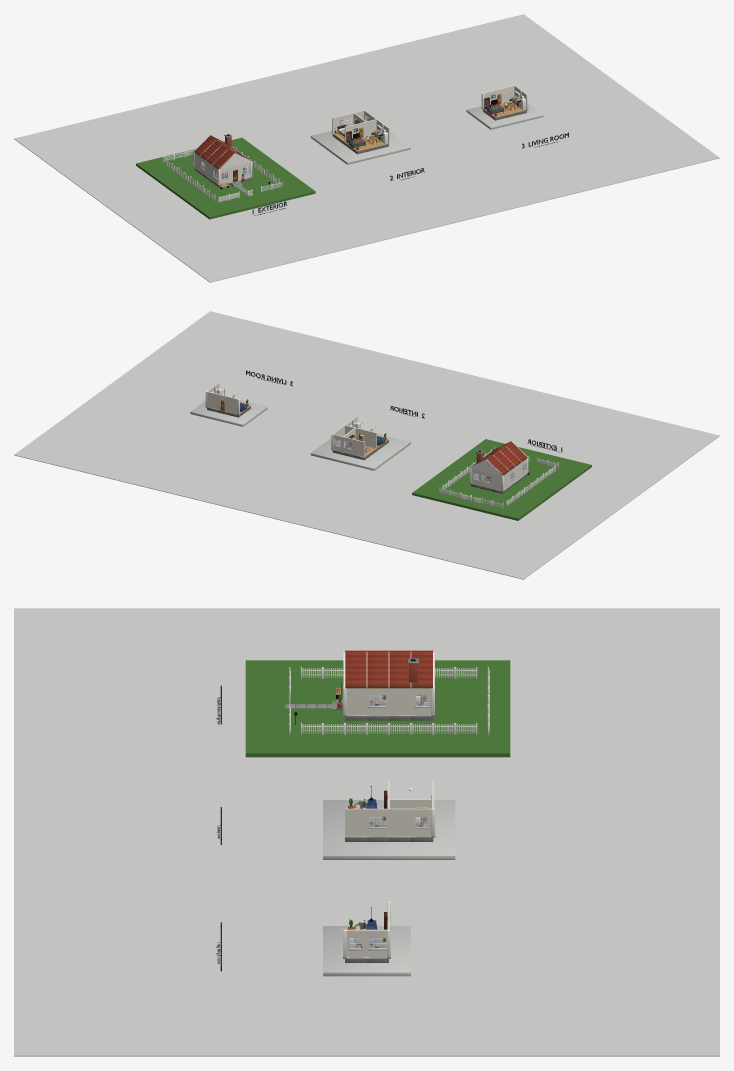
Rendered from Example_Place.glb.
The picture shows the model from 3 angles, top to bottom: view 1: azimuth 30°, elevation 25°; view 2: azimuth 150°, elevation 25°; view 3: azimuth 270°, elevation 25°; orthographic projection. The views are drawn at different scales.
Parts seen in each view (by area): view 1: Place_Floor, Ground_Garden, Slab_Interior, Slab_LivingRoom; view 2: Place_Floor, Ground_Garden, Slab_Interior, Slab_LivingRoom; view 3: Place_Floor, Ground_Garden, Slab_Interior, Slab_LivingRoom, Roof_Slope_Tile_2m.002, Roof_Slope_Tile_2m.004, Roof_Slope_Tile_2m.006, Roof_Slope_Tile_2m.008.
Part boxes in pixels (x1,y1,x2,y2): Place_Floor: (14, 14, 719, 282); Ground_Garden: (136, 137, 315, 219); Slab_Interior: (310, 130, 410, 164); Slab_LivingRoom: (466, 104, 543, 129); Place_Floor: (14, 311, 719, 579); Ground_Garden: (412, 439, 591, 520); Slab_Interior: (310, 433, 410, 470); Slab_LivingRoom: (190, 400, 267, 426); Place_Floor: (14, 608, 719, 1056); Ground_Garden: (245, 660, 510, 757); Slab_Interior: (323, 800, 455, 859); Slab_LivingRoom: (323, 926, 410, 976); Roof_Slope_Tile_2m.002: (345, 652, 366, 688); Roof_Slope_Tile_2m.004: (367, 652, 388, 688); Roof_Slope_Tile_2m.006: (389, 652, 410, 688); Roof_Slope_Tile_2m.008: (411, 652, 433, 688).
Bounding box in the file's own units: 96 × 6.24 × 64.
